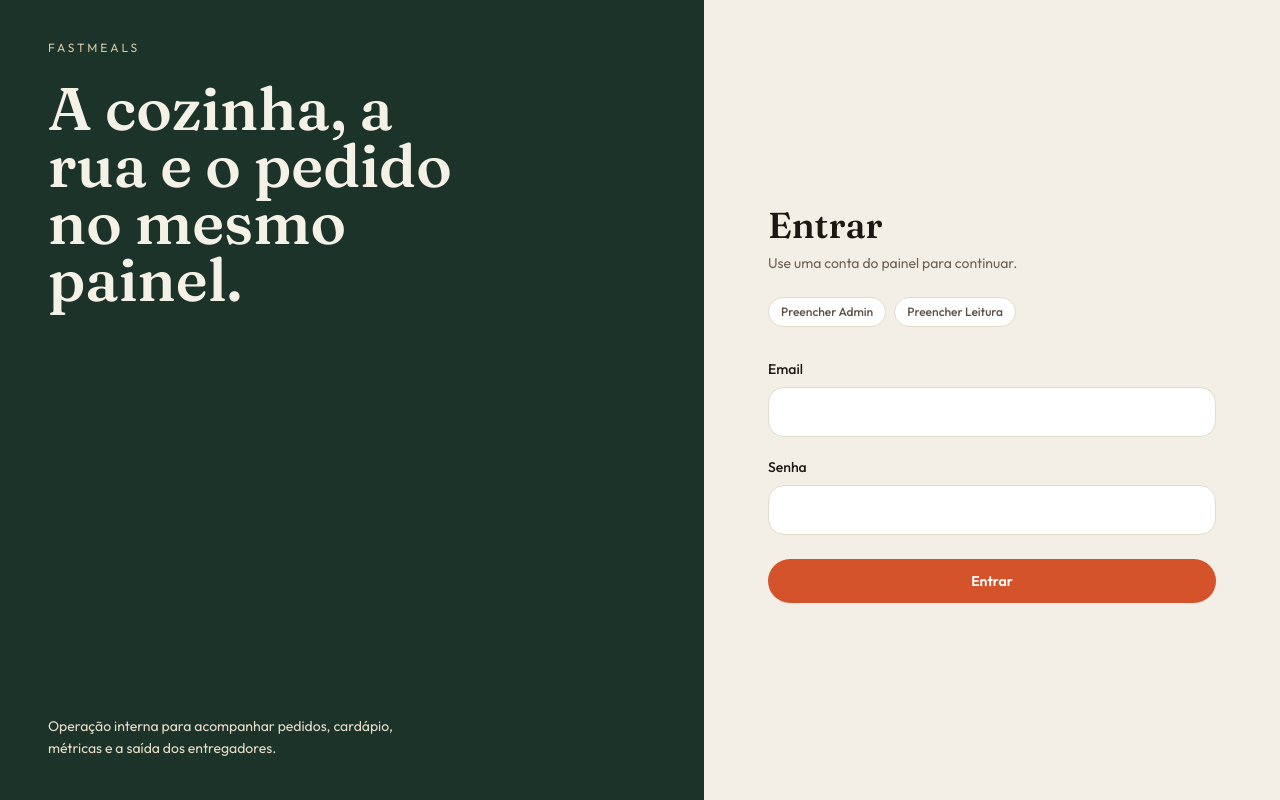
login › entra no painel de pedidos com uma conta valida
Expected: the heading "Entrar" is shown, left=768, top=203, right=883, bottom=247
What coordinates should you click on to do the following:
click the button "Preencher Admin"
I would click on:
 (827, 312)
Its box is left=768, top=297, right=886, bottom=327.
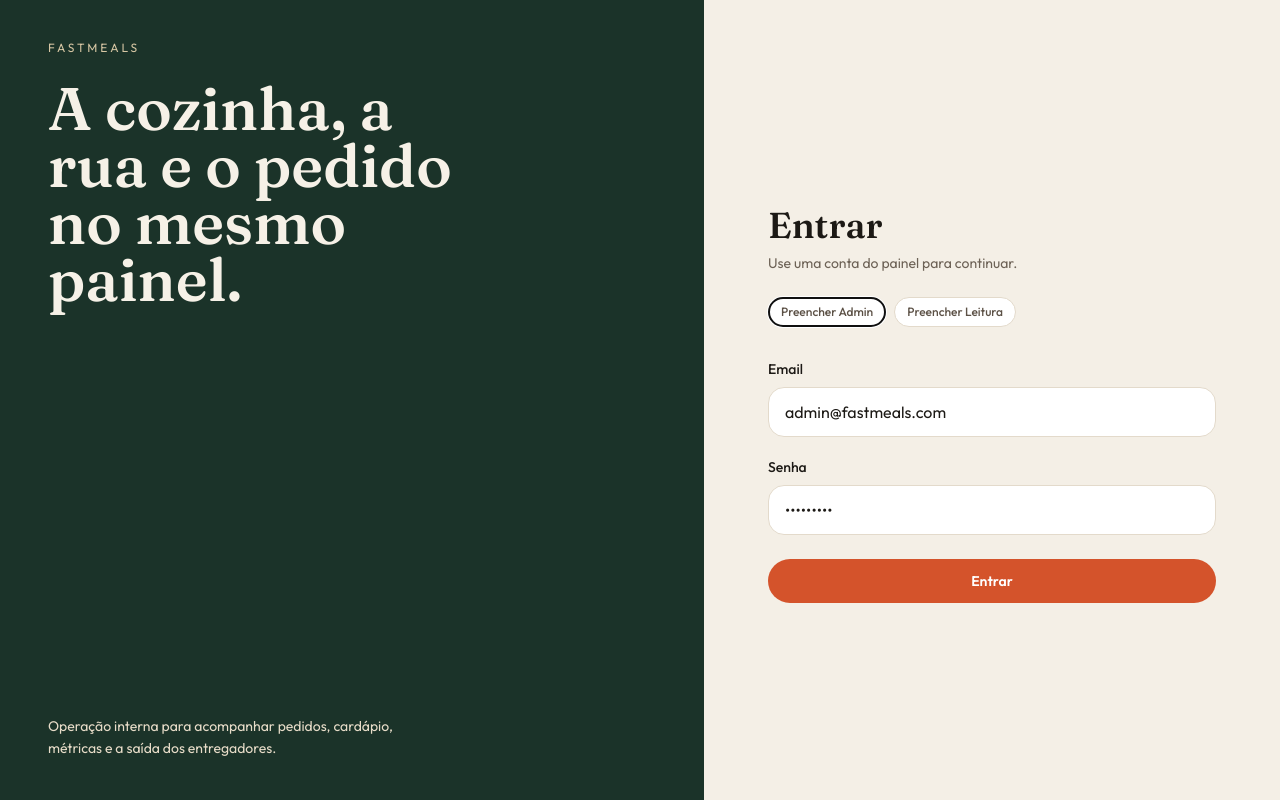
What coordinates should you click on to do the following:
click the button "Entrar"
I would click on:
 (992, 581)
Its box is left=768, top=559, right=1216, bottom=603.
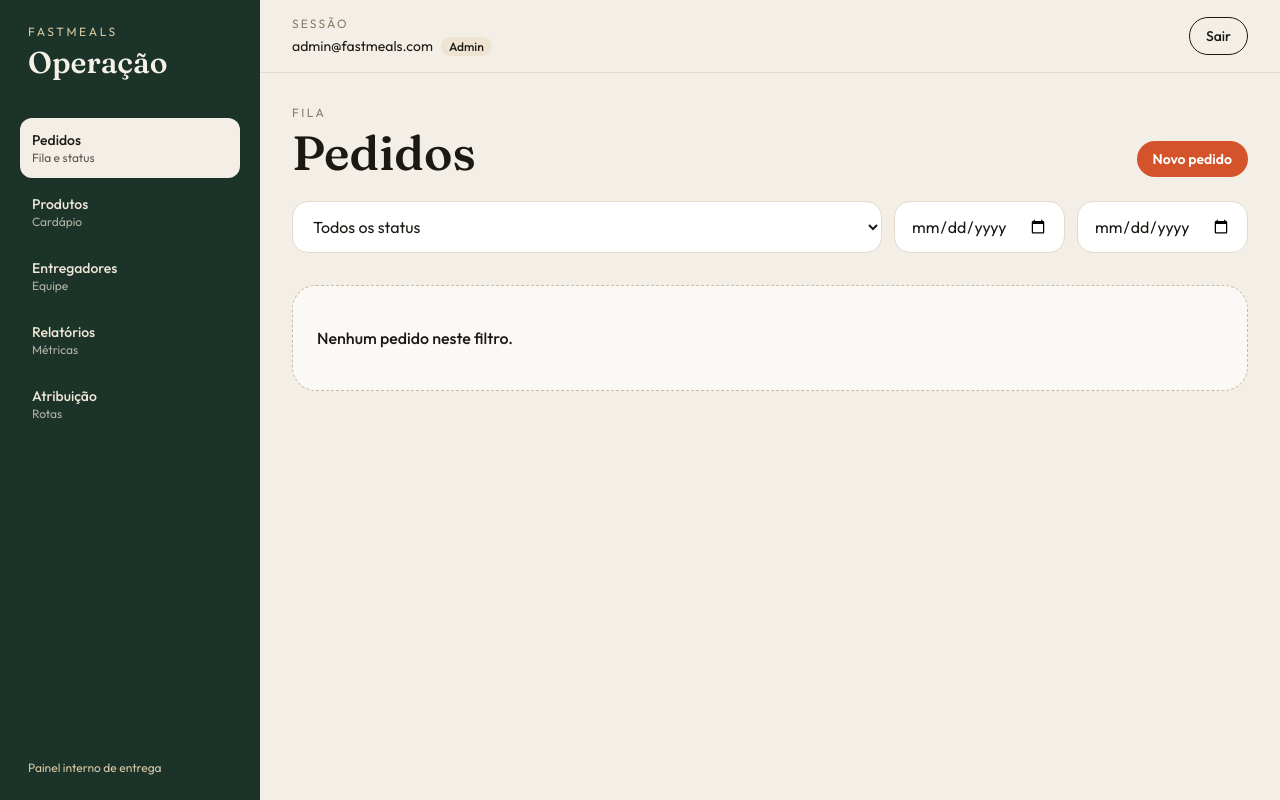
Result: the heading "Pedidos" is shown at left=292, top=129, right=476, bottom=177
Result: the text "admin@fastmeals.com" is shown at left=292, top=37, right=433, bottom=55
Result: the text "Nenhum pedido neste filtro." is shown at left=317, top=328, right=513, bottom=348
